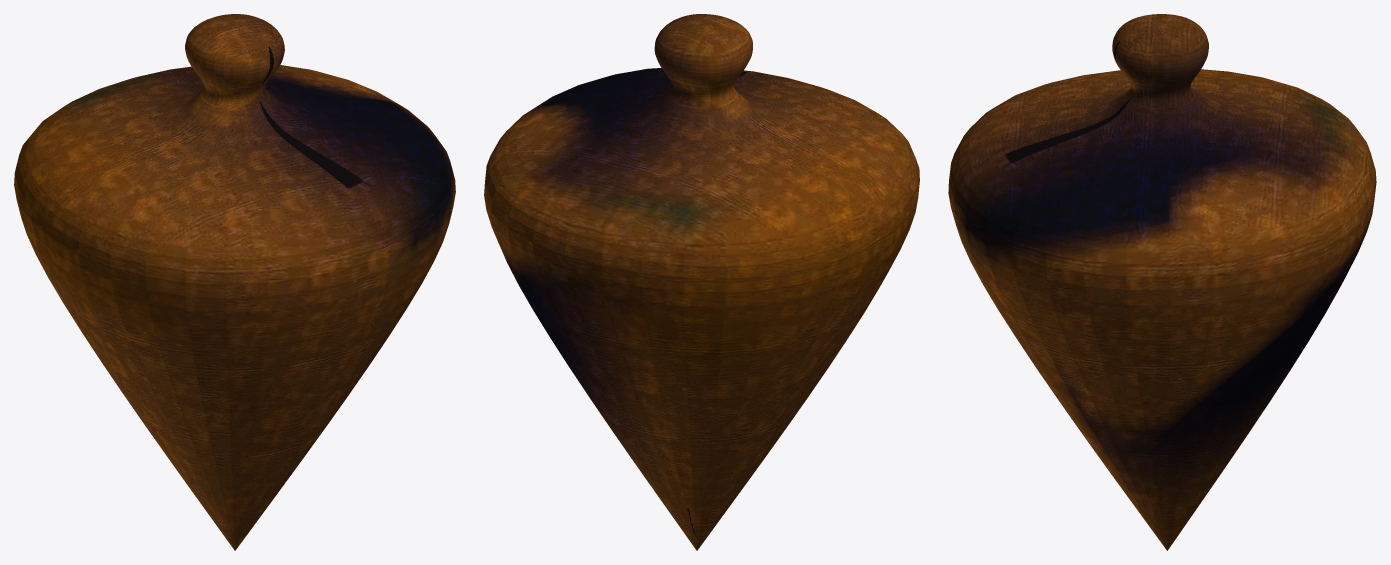
File: t_jug_peonza.glb
The picture shows the model from 3 angles, left to right: view 1: azimuth 30°, elevation 25°; view 2: azimuth 150°, elevation 25°; view 3: azimuth 270°, elevation 25°; orthographic projection.
Visible parts, largest first — view 1: Cube_Material.001_0; view 2: Cube_Material.001_0; view 3: Cube_Material.001_0.
Boxes of the visible parts, bbox=[...] form: Cube_Material.001_0: bbox=[14, 14, 455, 550]; Cube_Material.001_0: bbox=[484, 14, 919, 550]; Cube_Material.001_0: bbox=[948, 14, 1376, 550].
Bounding box in the file's own units: 0.0884 × 0.12 × 0.0884.
Materials: 1 (1 with a texture image).
